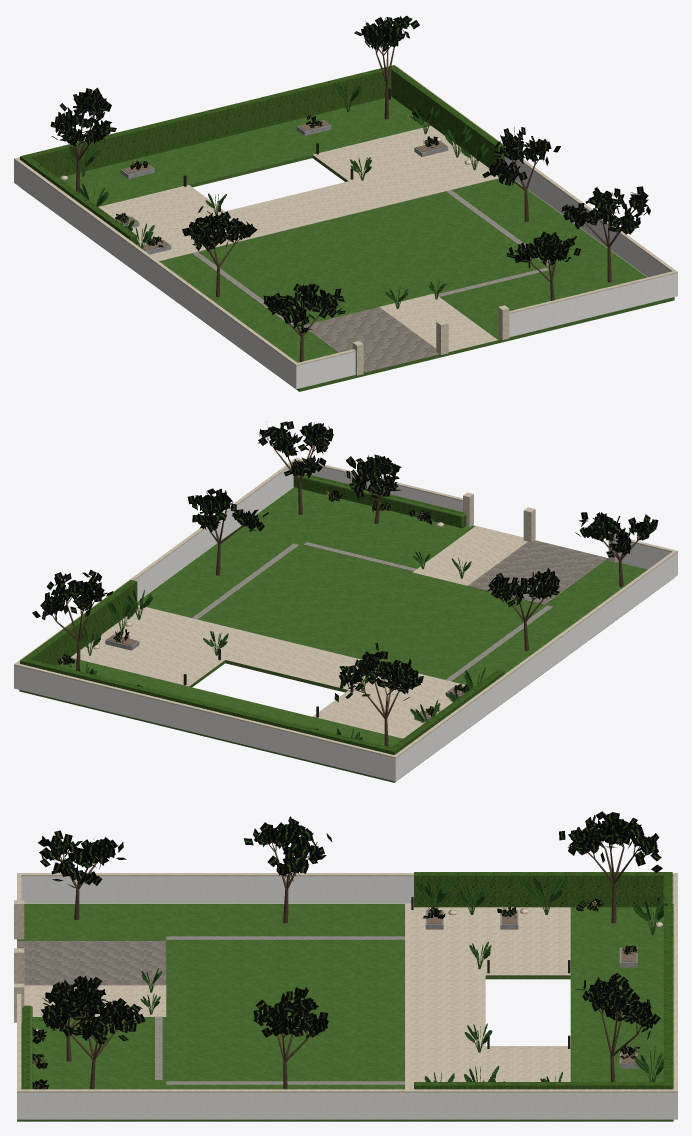
File: LuxuryVilla_Exterior.fbx
3 views of the same model, one above another, from view 1: azimuth 30°, elevation 25°; view 2: azimuth 150°, elevation 25°; view 3: azimuth 270°, elevation 25° (orthographic). The views are drawn at different scales.
Parts seen in each view (by area): view 1: Exterior, Tree_4, Tree_0, Tree_5, Tree_3, Tree_2, Tree_1, Tree_6; view 2: Exterior, Tree_0, Tree_4, Tree_1, Tree_3, Tree_5, Tree_2, Tree_6; view 3: Exterior, Tree_4, Tree_0, Tree_3, Tree_5, Tree_1, Tree_2, Tree_6, Plant_Tropical_2, Plant_Tropical_8.
Part boxes in pixels (<box>): Exterior: <box>14,65,677,391</box>; Tree_4: <box>561,186,650,282</box>; Tree_0: <box>50,87,116,193</box>; Tree_5: <box>263,283,345,361</box>; Tree_3: <box>482,127,560,221</box>; Tree_2: <box>182,206,257,297</box>; Tree_1: <box>354,16,419,119</box>; Tree_6: <box>506,231,581,300</box>; Exterior: <box>14,457,677,782</box>; Tree_0: <box>334,642,423,746</box>; Tree_4: <box>257,421,333,514</box>; Tree_1: <box>32,569,113,671</box>; Tree_3: <box>187,488,268,575</box>; Tree_5: <box>575,512,658,586</box>; Tree_2: <box>486,568,559,650</box>; Tree_6: <box>345,454,401,524</box>; Exterior: <box>14,872,677,1121</box>; Tree_4: <box>39,992,145,1089</box>; Tree_0: <box>559,811,662,923</box>; Tree_3: <box>253,987,328,1089</box>; Tree_5: <box>38,830,126,920</box>; Tree_1: <box>575,973,660,1081</box>; Tree_2: <box>243,816,332,923</box>; Tree_6: <box>43,976,111,1061</box>; Plant_Tropical_2: <box>523,877,564,914</box>; Plant_Tropical_8: <box>633,896,667,935</box>.
Size of the model in its own units: 34.97 by 9.2 by 44.5.
15 materials, 14 textured.
